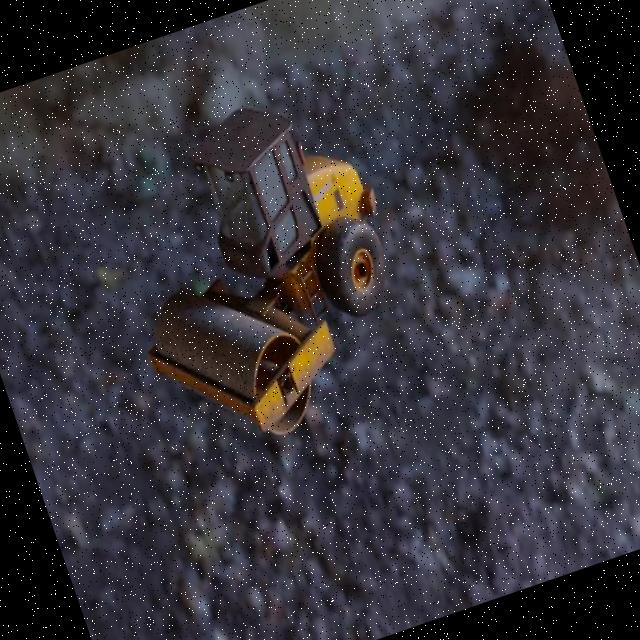Roller: (81, 75, 438, 467)
